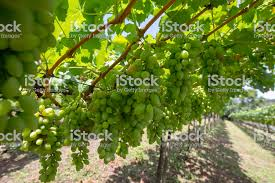grapes: (129, 38, 167, 143), (94, 87, 146, 163), (28, 109, 62, 180), (170, 36, 197, 121), (66, 99, 97, 172), (203, 39, 226, 114)
